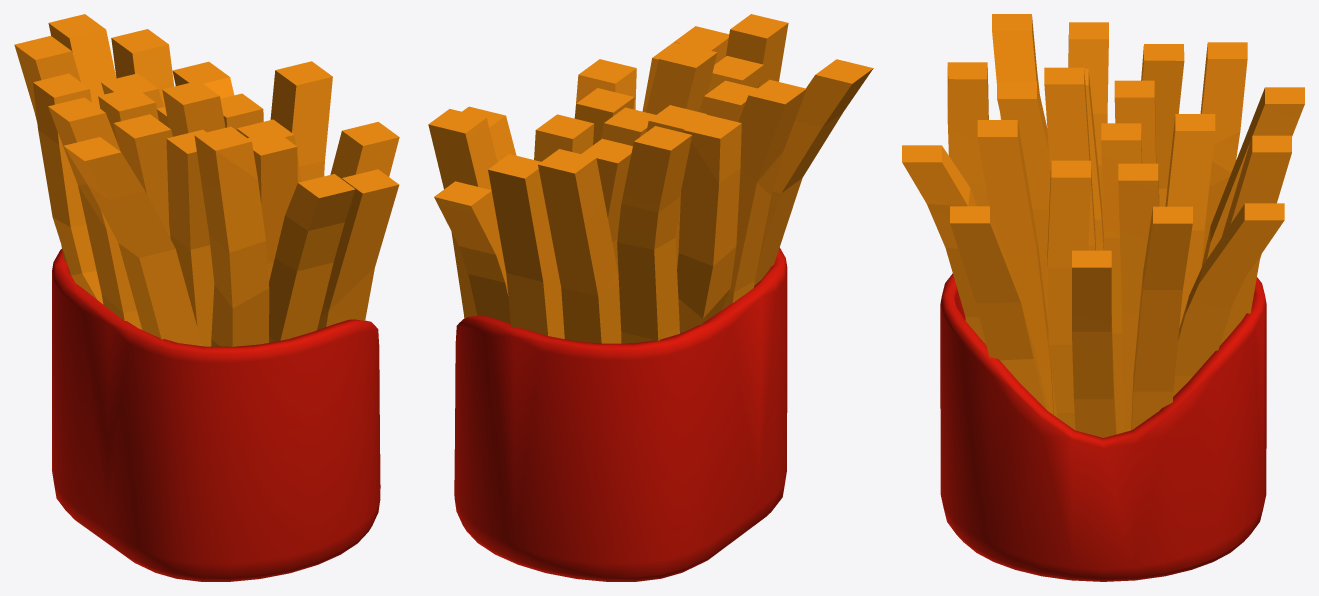
Rendered from French-fries.fbx.
The picture shows the model from 3 angles, left to right: view 1: azimuth 30°, elevation 25°; view 2: azimuth 150°, elevation 25°; view 3: azimuth 270°, elevation 25°; orthographic projection. The views are drawn at different scales.
Parts seen in each view (by area): view 1: French-fries; view 2: French-fries; view 3: French-fries.
Part boxes in pixels (x1=…): French-fries: x1=14, y1=14, x2=399, y2=581; French-fries: x1=428, y1=14, x2=873, y2=581; French-fries: x1=902, y1=14, x2=1304, y2=581.
Size of the model in its own units: 120 by 146 by 124.
